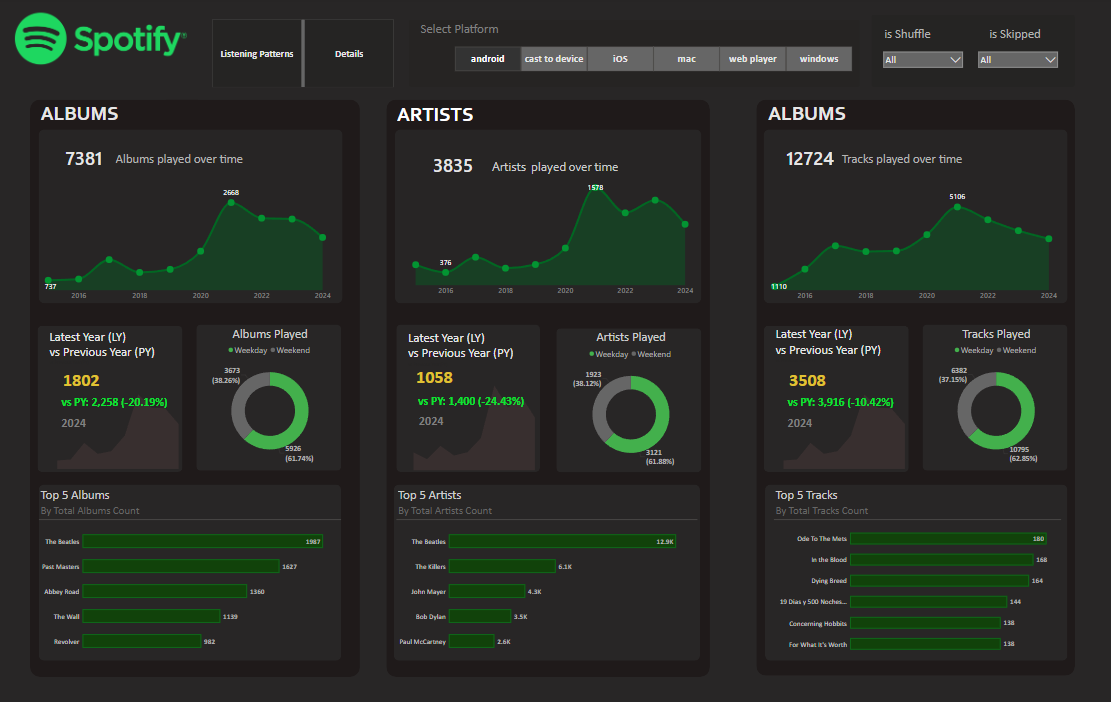

Layout of this report page (visuals, bound fields, positions):
{"tool":"powerbi","page":{"name":"Overview","canvas":[3300,2200],"ordinal":0},"visuals":[{"type":"shape","box":[1220.2,66.4,1330.8,199.1],"z":0},{"type":"image","box":[24.1,24.1,575.9,200],"z":1000},{"type":"slicer","fields":{"Values":["Spotify Data.platform"]},"box":[1330.8,125.3,1220.2,99.5],"z":2000},{"type":"shape","box":[103.2,302.3,973.2,1703.1],"z":3000},{"type":"textbox","box":[129,302.3,261.7,88.5],"z":4000},{"type":"shape","box":[129,390.8,895.8,512.4],"z":5000},{"type":"card","fields":{"Values":["Spotify Data.No of Albums"]},"box":[174.1,427.7,176.9,92.2],"z":6000},{"type":"textbox","box":[351,449.8,416.6,59],"z":7000},{"type":"areaChart","fields":{"Category":["Date Table.year"],"Y":["Spotify Data.No of Albums"]},"box":[129.9,553,866.3,353.9],"z":8000},{"type":"shape","box":[126.2,969.6,427.6,431.3],"z":9000},{"type":"areaChart","fields":{"Category":["Date Table.year"],"Y":["Spotify Data.No of Albums"]},"box":[129.9,1124.4,427.6,272.8],"z":10000},{"type":"textbox","box":[156.2,971.9,371.9,118.8],"z":11000},{"type":"card","fields":{"Values":["Spotify Data.LatestYearAlbums"]},"box":[166.7,1080.2,176.9,92.2],"z":12000},{"type":"card","fields":{"Values":["Spotify Data.PY and YoY Albums KPI"]},"box":[174.1,1161.3,357.6,66.4],"z":13000},{"type":"card","fields":{"Values":["Spotify Data.Max Year"]},"box":[155.7,1209.2,154.8,92.2],"z":14000},{"type":"shape","box":[594.3,965.9,427.6,431.3],"z":15000},{"type":"donutChart","title":"Albums Played","fields":{"Category":["Date Table.Weekday_Weekend"],"Y":["Spotify Data.No of Albums"]},"box":[601.7,969.6,420.2,416.6],"z":16000},{"type":"shape","box":[129.9,1437.8,892.1,519.8],"z":17000},{"type":"barChart","title":"Top 5 Albums","fields":{"Category":["Spotify Data.album_name"],"Y":["CountNonNull(Spotify Data.album_name)"]},"box":[129,1445,892.1,512.4],"z":18000},{"type":"shape","box":[1152.1,302.8,954.8,1703.1],"z":19000},{"type":"textbox","box":[1181.3,305.4,258,84.8],"z":20000},{"type":"shape","box":[1181.3,390.2,903.2,512.4],"z":21000},{"type":"textbox","box":[1406.2,471.3,501.3,73.7],"z":22000},{"type":"shape","box":[1183.3,965.8,423.9,435],"z":23000},{"type":"textbox","box":[1221.8,946.8,401.8,110.6],"z":24000},{"type":"shape","box":[1656.2,978.1,428.1,425],"z":25000},{"type":"areaChart","fields":{"Category":["Date Table.year"],"Y":["Spotify Data.No of Artists"]},"box":[1214.5,537.7,851.5,353.9],"z":26000},{"type":"donutChart","title":"Artists Played","fields":{"Category":["Date Table.Weekday_Weekend"],"Y":["Spotify Data.No of Artists"]},"box":[1665.6,981.2,418.8,415.6],"z":27000},{"type":"shape","box":[1175.9,1437.7,903.2,519.8],"z":28000},{"type":"barChart","title":"Top 5 Artists","fields":{"Y":["CountNonNull(Spotify Data.artist_name)"],"Category":["Spotify Data.artist_name"]},"box":[1183.3,1445,888.4,512.4],"z":29000},{"type":"card","fields":{"Values":["Spotify Data.No of Artists"]},"box":[1266.1,441.8,173.3,103.2],"z":30000},{"type":"areaChart","fields":{"Category":["Date Table.year"],"Y":["Spotify Data.No of Artists"]},"box":[1179.6,1128,427.6,272.8],"z":31000},{"type":"card","fields":{"Values":["Spotify Data.LatestYearArtists"]},"box":[1207.1,1064.8,180.6,103.2],"z":32000},{"type":"card","fields":{"Values":["Spotify Data.PY and YoY Artists KPI"]},"box":[1210.8,1157,390.8,66.4],"z":33000},{"type":"card","fields":{"Values":["Spotify Data.Max Year"]},"box":[1221.8,1193.8,132.7,106.9],"z":34000},{"type":"textbox","box":[1212.8,976.9,372.3,121.6],"z":35000},{"type":"shape","box":[2246.2,303.5,940,1699.4],"z":36000},{"type":"textbox","box":[2274.5,302.3,261.7,88.5],"z":37000},{"type":"shape","box":[2267.1,390.8,895.8,512.4],"z":38000},{"type":"card","fields":{"Values":["Spotify Data.No of Tracks"]},"box":[2316.3,428.9,176.9,92.2],"z":39000},{"type":"textbox","box":[2493.2,451,416.6,59],"z":40000},{"type":"areaChart","fields":{"Category":["Date Table.year"],"Y":["Spotify Data.No of Tracks"]},"box":[2272,554.2,866.3,353.9],"z":41000},{"type":"shape","box":[2268.3,970.8,427.6,431.3],"z":42000},{"type":"areaChart","fields":{"Category":["Date Table.year"],"Y":["Spotify Data.No of Albums"]},"box":[2272,1125.6,427.6,272.8],"z":43000},{"type":"textbox","box":[2297.8,967.1,372.3,121.6],"z":44000},{"type":"card","fields":{"Values":["Spotify Data.LatestYeartracks"]},"box":[2308.9,1081.3,176.9,92.2],"z":45000},{"type":"card","fields":{"Values":["Spotify Data.PY and YoY Tracks KPI"]},"box":[2316.3,1162.4,357.6,66.4],"z":46000},{"type":"card","fields":{"Values":["Spotify Data.Max Year"]},"box":[2297.8,1210.4,154.8,92.2],"z":47000},{"type":"shape","box":[2736.5,967.1,427.6,431.3],"z":48000},{"type":"donutChart","title":"Tracks Played","fields":{"Category":["Date Table.Weekday_Weekend"],"Y":["Spotify Data.No of Tracks"]},"box":[2743.9,970.8,420.2,416.6],"z":49000},{"type":"shape","box":[2272,1438.9,892.1,519.8],"z":50000},{"type":"barChart","title":"Top 5 Tracks","fields":{"Category":["Spotify Data.track_name"],"Y":["CountNonNull(Spotify Data.track_name)"]},"box":[2297.8,1446.3,847.9,512.4],"z":51000},{"type":"textbox","box":[1249.7,66.4,416.6,59],"z":52000},{"type":"shape","box":[2584.1,51.6,600.9,213.8],"z":53000},{"type":"slicer","fields":{"Values":["Spotify Data.shuffle"]},"box":[2609.9,151.1,254.4,73.7],"z":54000},{"type":"slicer","fields":{"Values":["Spotify Data.skipped"]},"box":[2890.1,151.1,254.4,73.7],"z":55000},{"type":"textbox","box":[2617.3,81.1,235.9,59],"z":56000},{"type":"textbox","box":[2927,81.1,235.9,59],"z":57000},{"type":"pageNavigator","box":[641.4,66.4,534.5,199.1],"z":58000}]}

Visuals, with their boxes on the page's 3300x2200 design canvas (x1, y1, x2, y2). These are canvas units, not pixel positions in the 1111x702 screenshot, which may show the page scaled, cropped or inside an application window:
shape: select_region(1220, 66, 2551, 266)
image: select_region(24, 24, 600, 224)
slicer - Spotify Data.platform: select_region(1331, 125, 2551, 225)
shape: select_region(103, 302, 1076, 2005)
textbox: select_region(129, 302, 391, 391)
shape: select_region(129, 391, 1025, 903)
card - Spotify Data.No of Albums: select_region(174, 428, 351, 520)
textbox: select_region(351, 450, 768, 509)
areaChart - Date Table.year x Spotify Data.No of Albums: select_region(130, 553, 996, 907)
shape: select_region(126, 970, 554, 1401)
areaChart - Date Table.year x Spotify Data.No of Albums: select_region(130, 1124, 558, 1397)
textbox: select_region(156, 972, 528, 1091)
card - Spotify Data.LatestYearAlbums: select_region(167, 1080, 344, 1172)
card - Spotify Data.PY and YoY Albums KPI: select_region(174, 1161, 532, 1228)
card - Spotify Data.Max Year: select_region(156, 1209, 310, 1301)
shape: select_region(594, 966, 1022, 1397)
"Albums Played" donutChart: select_region(602, 970, 1022, 1386)
shape: select_region(130, 1438, 1022, 1958)
"Top 5 Albums" barChart: select_region(129, 1445, 1021, 1957)
shape: select_region(1152, 303, 2107, 2006)
textbox: select_region(1181, 305, 1439, 390)
shape: select_region(1181, 390, 2084, 903)
textbox: select_region(1406, 471, 1908, 545)
shape: select_region(1183, 966, 1607, 1401)
textbox: select_region(1222, 947, 1624, 1057)
shape: select_region(1656, 978, 2084, 1403)
areaChart - Date Table.year x Spotify Data.No of Artists: select_region(1214, 538, 2066, 892)
"Artists Played" donutChart: select_region(1666, 981, 2084, 1397)
shape: select_region(1176, 1438, 2079, 1958)
"Top 5 Artists" barChart: select_region(1183, 1445, 2072, 1957)
card - Spotify Data.No of Artists: select_region(1266, 442, 1439, 545)
areaChart - Date Table.year x Spotify Data.No of Artists: select_region(1180, 1128, 1607, 1401)
card - Spotify Data.LatestYearArtists: select_region(1207, 1065, 1388, 1168)
card - Spotify Data.PY and YoY Artists KPI: select_region(1211, 1157, 1602, 1223)
card - Spotify Data.Max Year: select_region(1222, 1194, 1354, 1301)
textbox: select_region(1213, 977, 1585, 1098)
shape: select_region(2246, 304, 3186, 2003)
textbox: select_region(2274, 302, 2536, 391)
shape: select_region(2267, 391, 3163, 903)
card - Spotify Data.No of Tracks: select_region(2316, 429, 2493, 521)
textbox: select_region(2493, 451, 2910, 510)
areaChart - Date Table.year x Spotify Data.No of Tracks: select_region(2272, 554, 3138, 908)
shape: select_region(2268, 971, 2696, 1402)
areaChart - Date Table.year x Spotify Data.No of Albums: select_region(2272, 1126, 2700, 1398)
textbox: select_region(2298, 967, 2670, 1089)
card - Spotify Data.LatestYeartracks: select_region(2309, 1081, 2486, 1174)
card - Spotify Data.PY and YoY Tracks KPI: select_region(2316, 1162, 2674, 1229)
card - Spotify Data.Max Year: select_region(2298, 1210, 2453, 1303)
shape: select_region(2736, 967, 3164, 1398)
"Tracks Played" donutChart: select_region(2744, 971, 3164, 1387)
shape: select_region(2272, 1439, 3164, 1959)
"Top 5 Tracks" barChart: select_region(2298, 1446, 3146, 1959)
textbox: select_region(1250, 66, 1666, 125)
shape: select_region(2584, 52, 3185, 265)
slicer - Spotify Data.shuffle: select_region(2610, 151, 2864, 225)
slicer - Spotify Data.skipped: select_region(2890, 151, 3144, 225)
textbox: select_region(2617, 81, 2853, 140)
textbox: select_region(2927, 81, 3163, 140)
pageNavigator: select_region(641, 66, 1176, 266)
